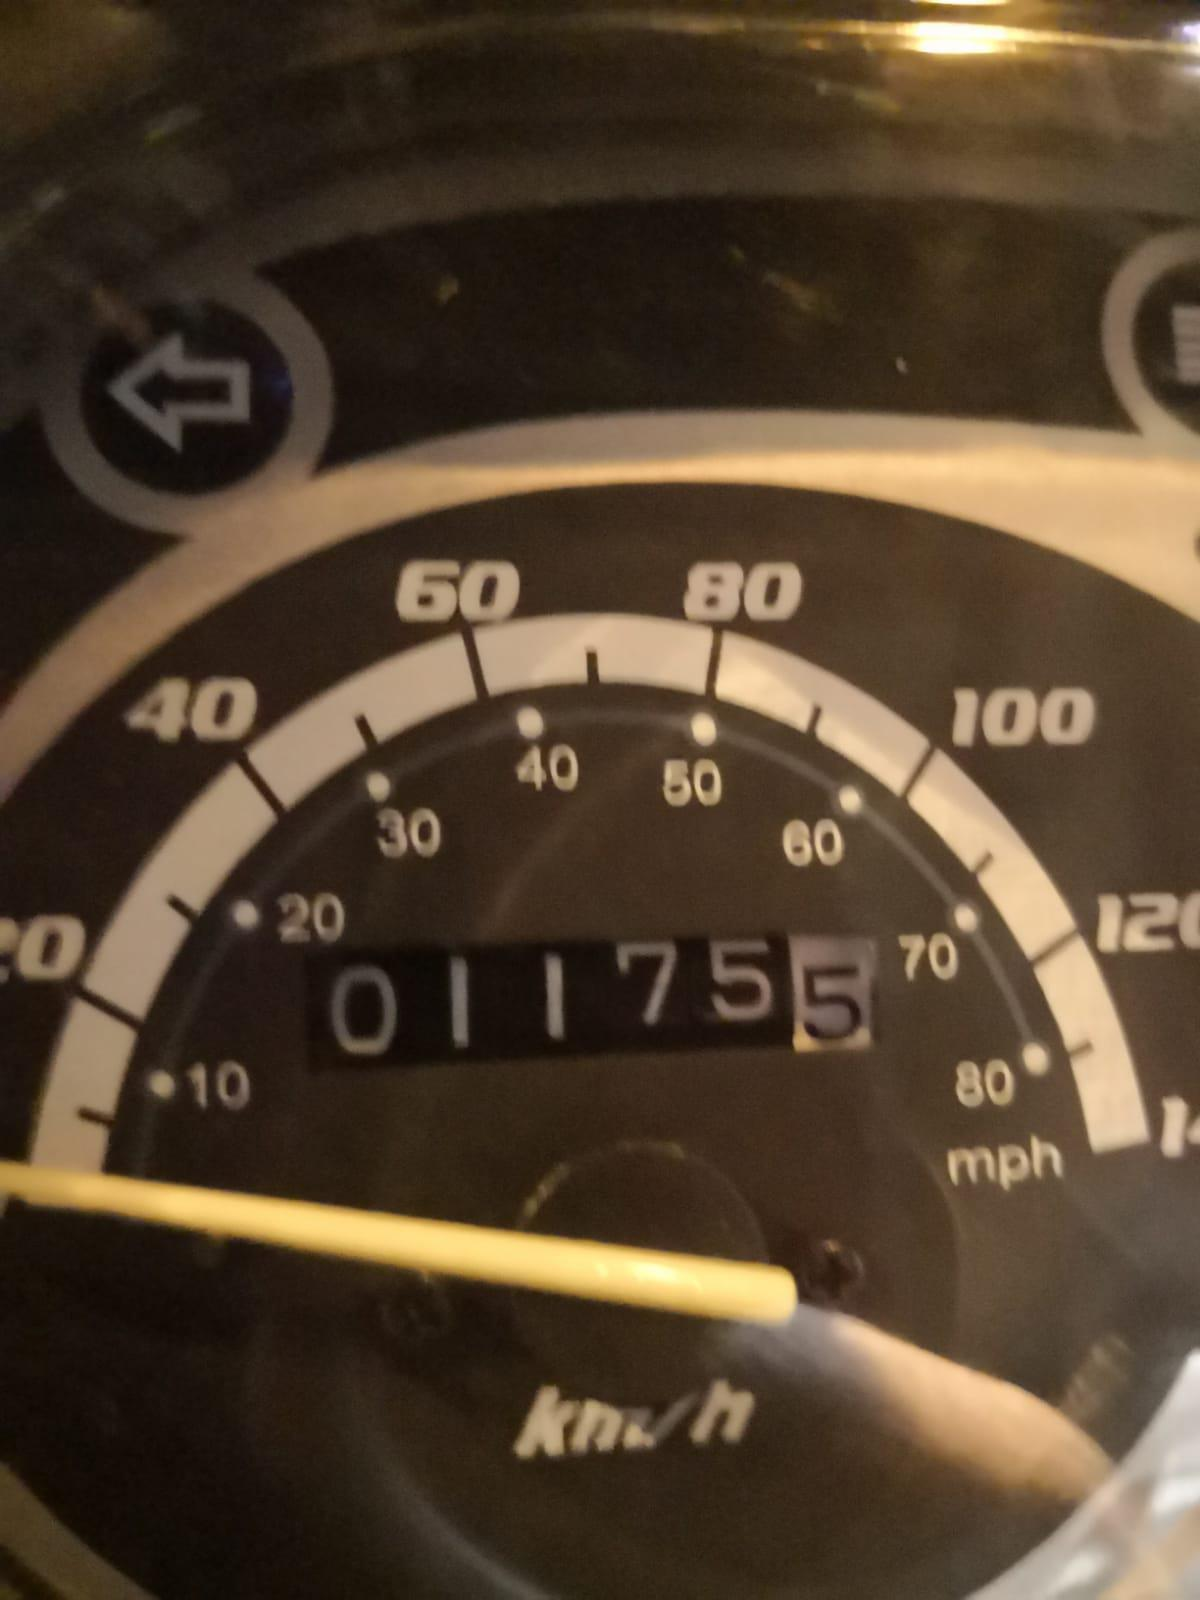0: (326, 959, 408, 1057)
1: (442, 947, 480, 1060), (534, 950, 577, 1044)
5: (708, 934, 780, 1027), (800, 955, 868, 1047)
7: (613, 937, 686, 1026)
odometer: (300, 930, 891, 1078)
